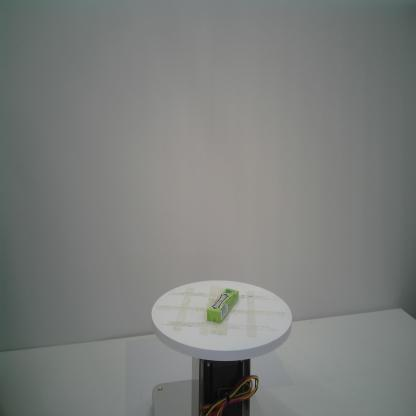Gum: (206, 288, 240, 324)
